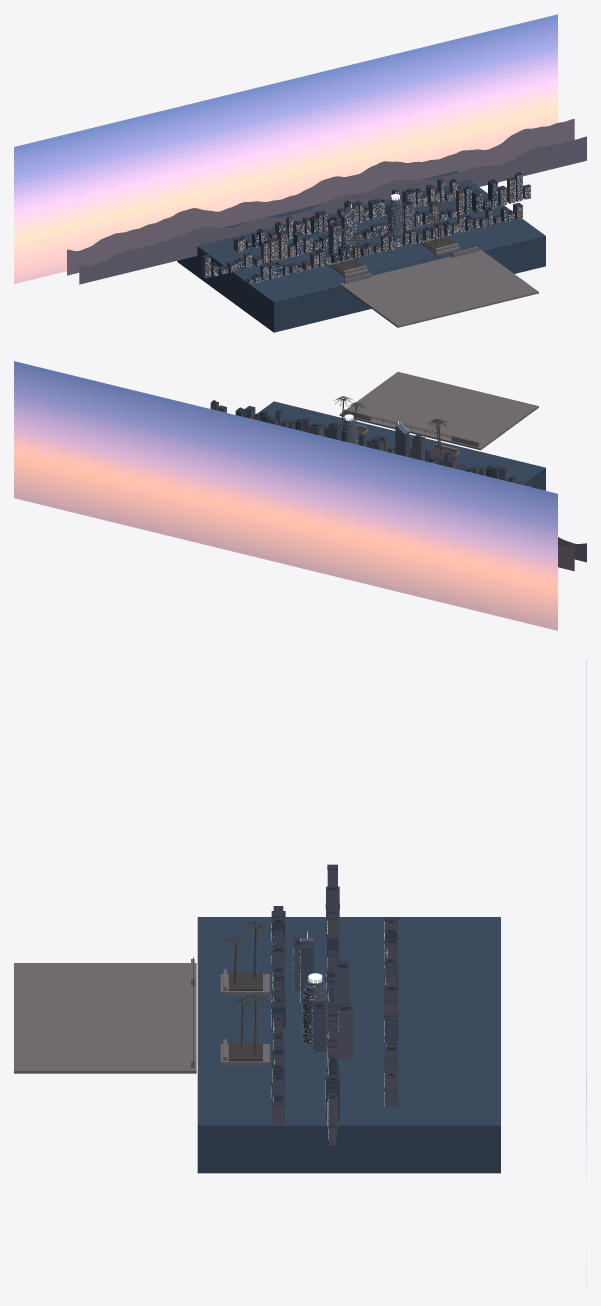
The model's file is VenueLosAngeles.fbx.
3 renders of one model, top to bottom at view 1: azimuth 30°, elevation 25°; view 2: azimuth 150°, elevation 25°; view 3: azimuth 270°, elevation 25°, orthographic. The views are drawn at different scales.
Parts seen in each view (by area): view 1: VenueLosAngeles; view 2: VenueLosAngeles; view 3: VenueLosAngeles.
Part boxes in pixels (x1=…): VenueLosAngeles: x1=14, y1=14, x2=586, y2=332; VenueLosAngeles: x1=14, y1=361, x2=586, y2=630; VenueLosAngeles: x1=14, y1=659, x2=586, y2=1291.
Bounding box in the file's own units: 54 × 31.36 × 13.
